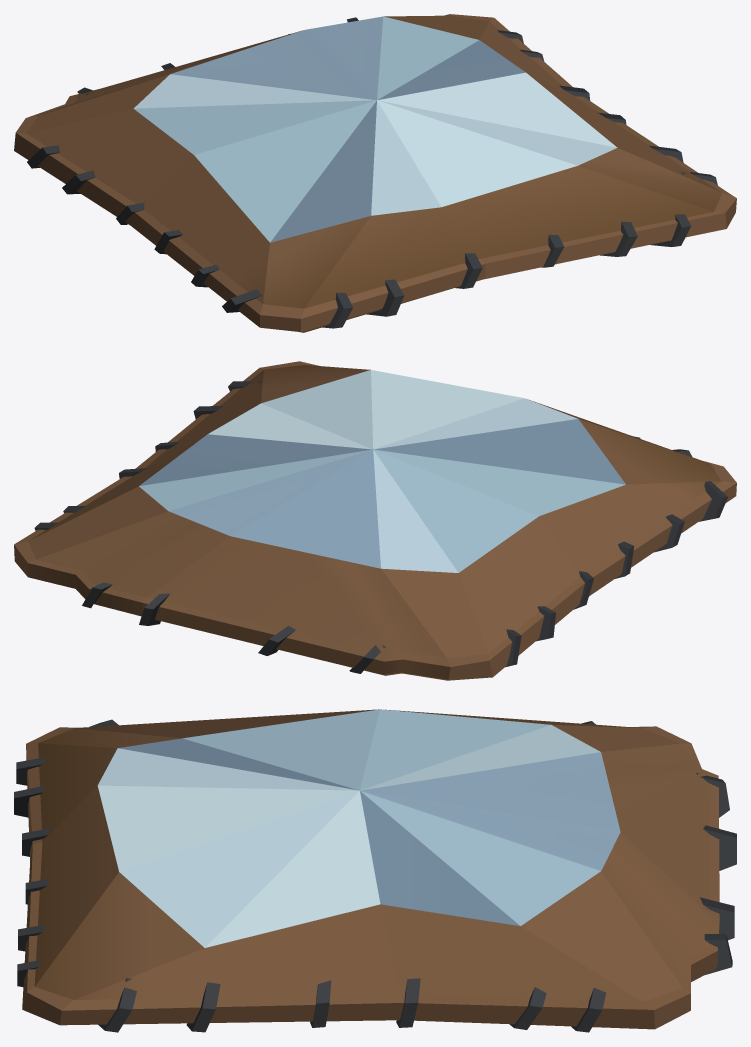
Rendered from SM_Prop_Pillow_07.fbx.
3 renders of one model, top to bottom at view 1: azimuth 30°, elevation 25°; view 2: azimuth 150°, elevation 25°; view 3: azimuth 270°, elevation 25°, orthographic. The views are drawn at different scales.
Parts seen in each view (by area): view 1: SM_Prop_Pillow_07; view 2: SM_Prop_Pillow_07; view 3: SM_Prop_Pillow_07.
Part boxes in pixels (x1,y1,x2,y2): SM_Prop_Pillow_07: [14, 14, 736, 332]; SM_Prop_Pillow_07: [14, 361, 736, 680]; SM_Prop_Pillow_07: [14, 709, 736, 1032].
Bounding box in the file's own units: 0.608 × 0.1198 × 0.6434.
1 material, 1 textured.
